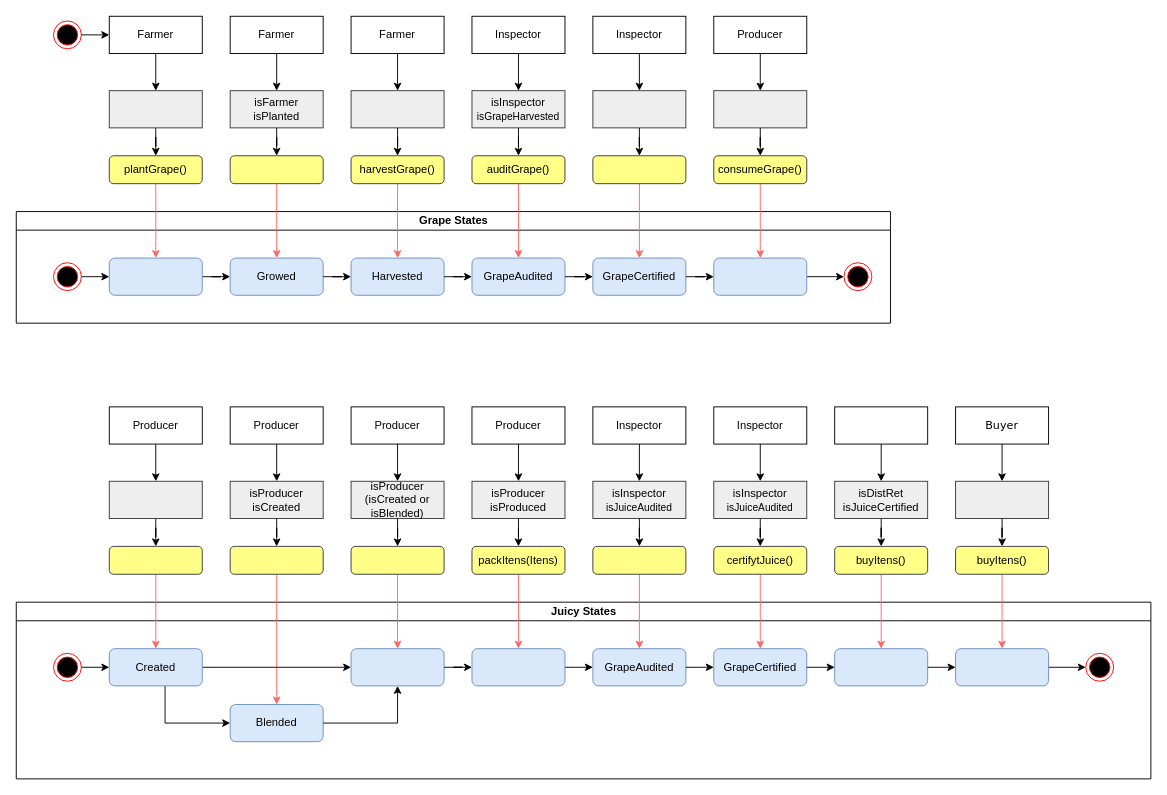
Image size: 1167x795. Some labels were removed from this diagram. Each missing label, with the centre of its shape:
"auditJuice()" belongs at [639,559].
"blendJuicy(Grape)" belongs at [276,559].
"certifytGrape()" belongs at [639,169].
"createJuicy(Grape)" belongs at [155,559].
"DistRetSold" belongs at [881,667].
"Distributor / Retailer" belongs at [881,425].
"GrapeConsumed" belongs at [760,276].
"growGrape()" belongs at [276,169].
"isBuyer isDistRetSold" belongs at [1002,499].
"isFarmer" belongs at [155,109].
"isFarmer isGrowed" belongs at [397,109].
"isInspector isGrapeAudited" belongs at [639,109].
"isProducer" belongs at [155,499].
"isProducer hasGrape isGrapeCertified" belongs at [760,109].
"Packed" belongs at [518,667].
"Planted" belongs at [155,276].
"Produced" belongs at [397,667].
"produceItens()" belongs at [397,559].
"Sold" belongs at [1002,667].
